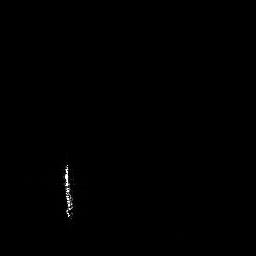ship: (63, 161, 77, 222)
